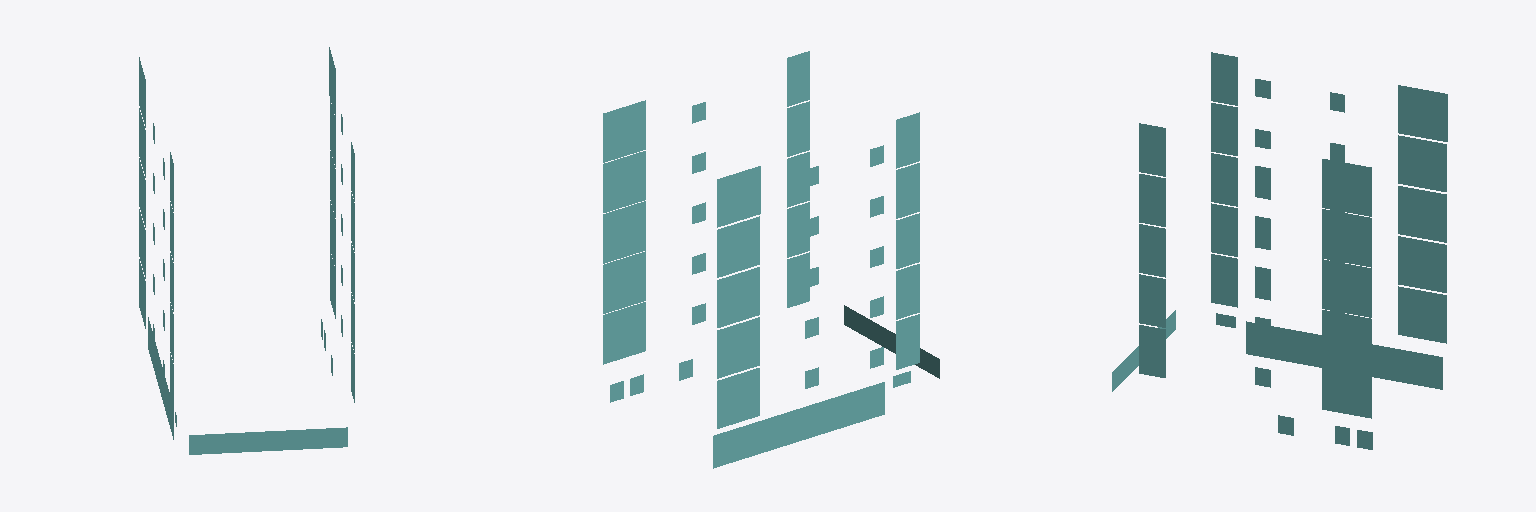
The model's file is BuildingMiddle2Window.obj.
The picture shows the model from 3 angles: view 1: azimuth 30°, elevation 25°; view 2: azimuth 150°, elevation 25°; view 3: azimuth 270°, elevation 25°; orthographic projection.
Parts seen in each view (by area): view 1: Residential_Buildings_003_Cube.001; view 2: Residential_Buildings_003_Cube.001; view 3: Residential_Buildings_003_Cube.001.
Boxes of the visible parts, box(x1,y1,x2,y2) form: Residential_Buildings_003_Cube.001: box(139, 47, 354, 454); Residential_Buildings_003_Cube.001: box(603, 51, 939, 468); Residential_Buildings_003_Cube.001: box(1112, 52, 1447, 449).
Size of the model in its own units: 4.27 by 5.02 by 5.19.